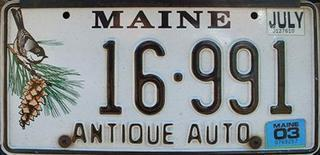placa de veiculo: (4, 2, 315, 151)
